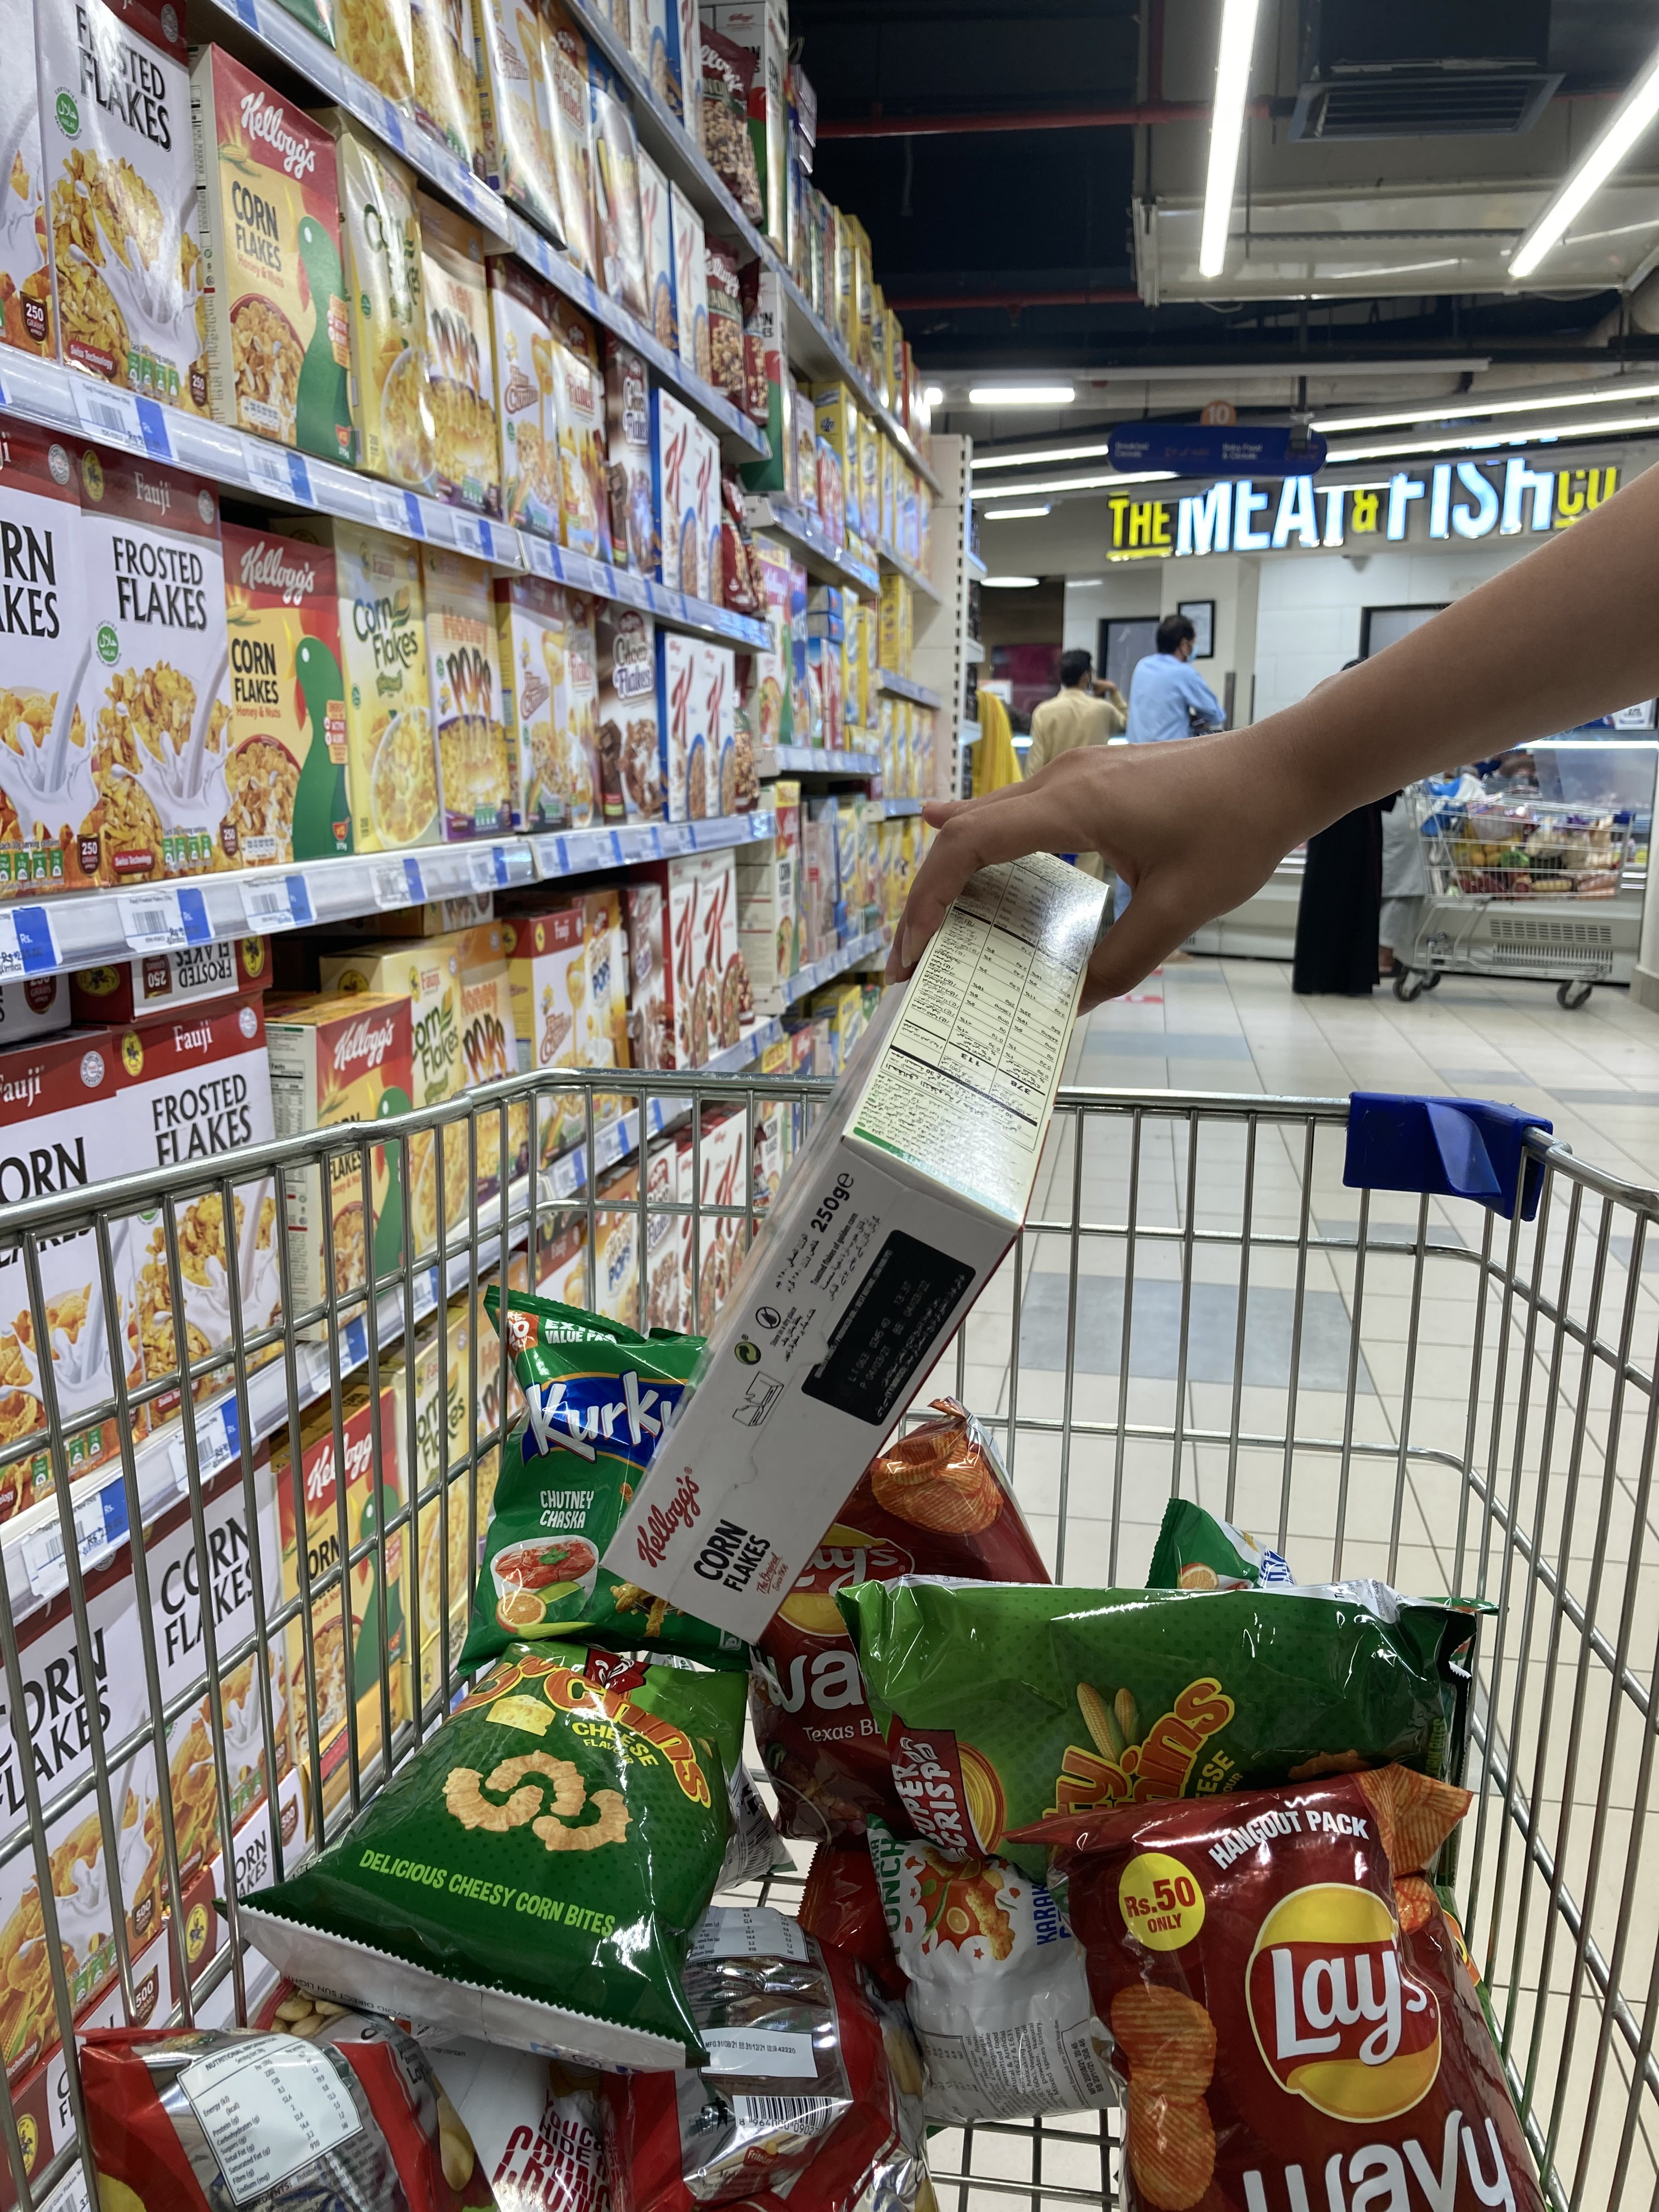Kellogg's Corn Flakes: (591, 866, 1115, 1630)
